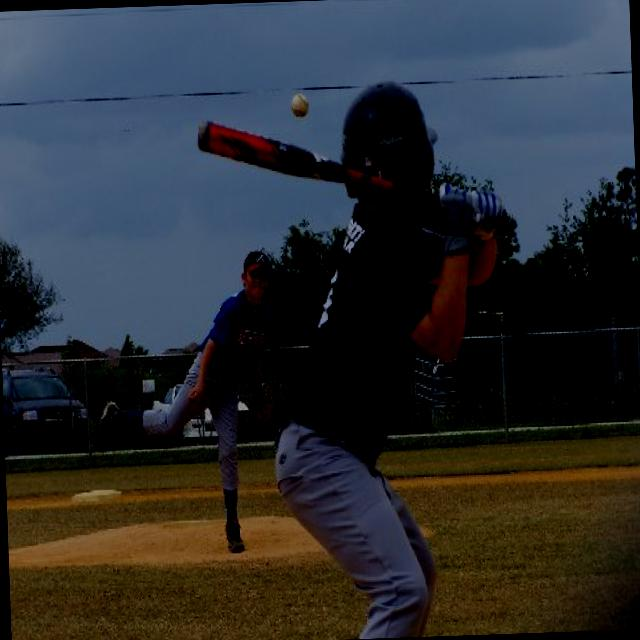Vehicle: (1, 369, 78, 446), (160, 380, 248, 442)
